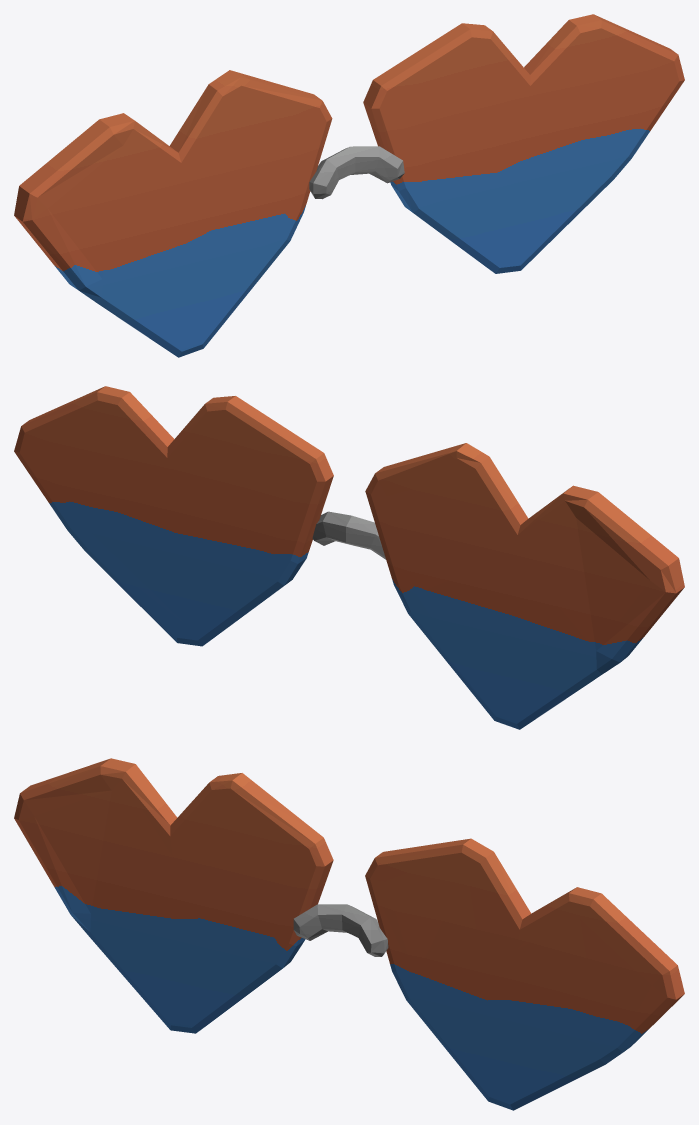
Rendered from CharSkyKid_Horn_HeartSunglasses.glb.
3 renders of one model, top to bottom at view 1: azimuth 30°, elevation 25°; view 2: azimuth 150°, elevation 25°; view 3: azimuth 330°, elevation 25°, orthographic.
Parts seen in each view (by area): view 1: CharSkyKid_Horn_HeartSunglasses; view 2: CharSkyKid_Horn_HeartSunglasses; view 3: CharSkyKid_Horn_HeartSunglasses.
Boxes of the visible parts, x1,y1,x2,y2 form: CharSkyKid_Horn_HeartSunglasses: [14, 14, 684, 357]; CharSkyKid_Horn_HeartSunglasses: [14, 386, 684, 729]; CharSkyKid_Horn_HeartSunglasses: [14, 758, 684, 1110].
Size of the model in its own units: 2.33 by 0.8914 by 0.1291.
1 material, 1 textured.
